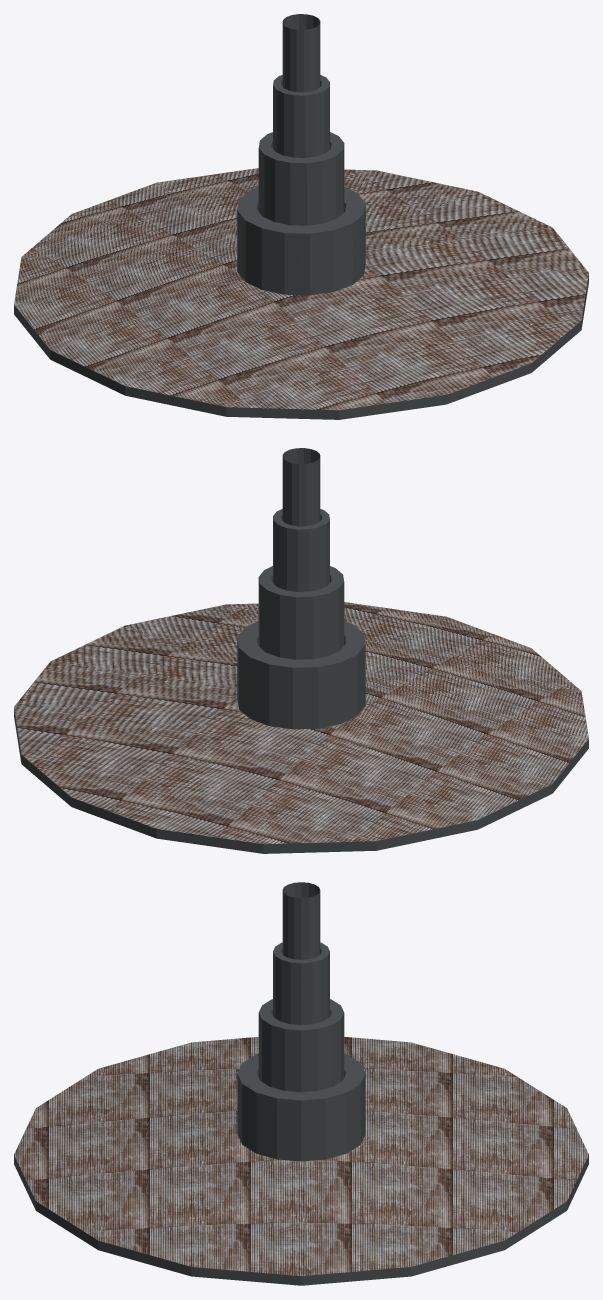
The model's file is jos.obj.
The picture shows the model from 3 angles, top to bottom: view 1: azimuth 30°, elevation 25°; view 2: azimuth 150°, elevation 25°; view 3: azimuth 270°, elevation 25°; orthographic projection.
Visible parts, largest first — view 1: Cylinder.004, Cylinder.002, Cylinder.001, Cylinder.003; view 2: Cylinder.004, Cylinder.001, Cylinder.002, Cylinder.003; view 3: Cylinder.004, Cylinder.001, Cylinder.002, Cylinder.003.
Boxes of the visible parts, x1,y1,x2,y2 form: Cylinder.004: (14,168,588,410); Cylinder.002: (14,14,581,419); Cylinder.001: (50,14,588,419); Cylinder.003: (258,132,344,224); Cylinder.004: (14,602,588,844); Cylinder.001: (21,448,588,853); Cylinder.002: (14,448,552,853); Cylinder.003: (258,566,344,658); Cylinder.004: (14,1037,588,1276); Cylinder.001: (14,882,566,1285); Cylinder.002: (36,882,588,1285); Cylinder.003: (258,999,344,1091).
Bounding box in the file's own units: 7.36 × 3.87 × 7.36.
4 materials, 4 textured.
